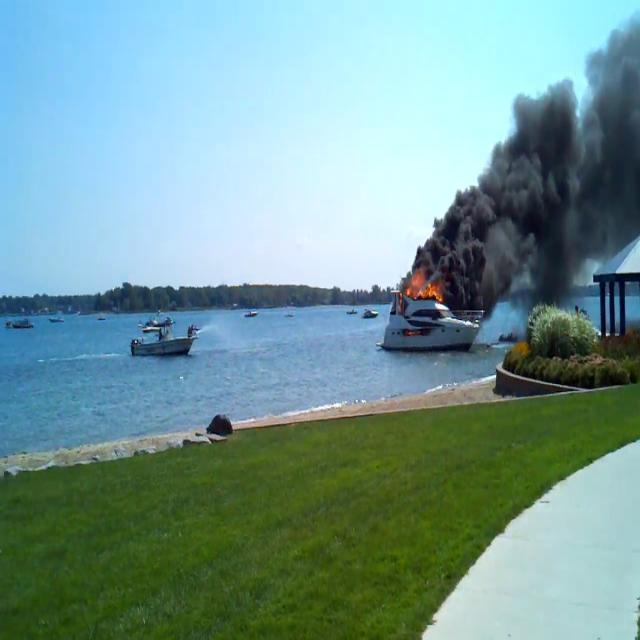Fire: (403, 268, 444, 306)
Smoke: (415, 7, 640, 331)
